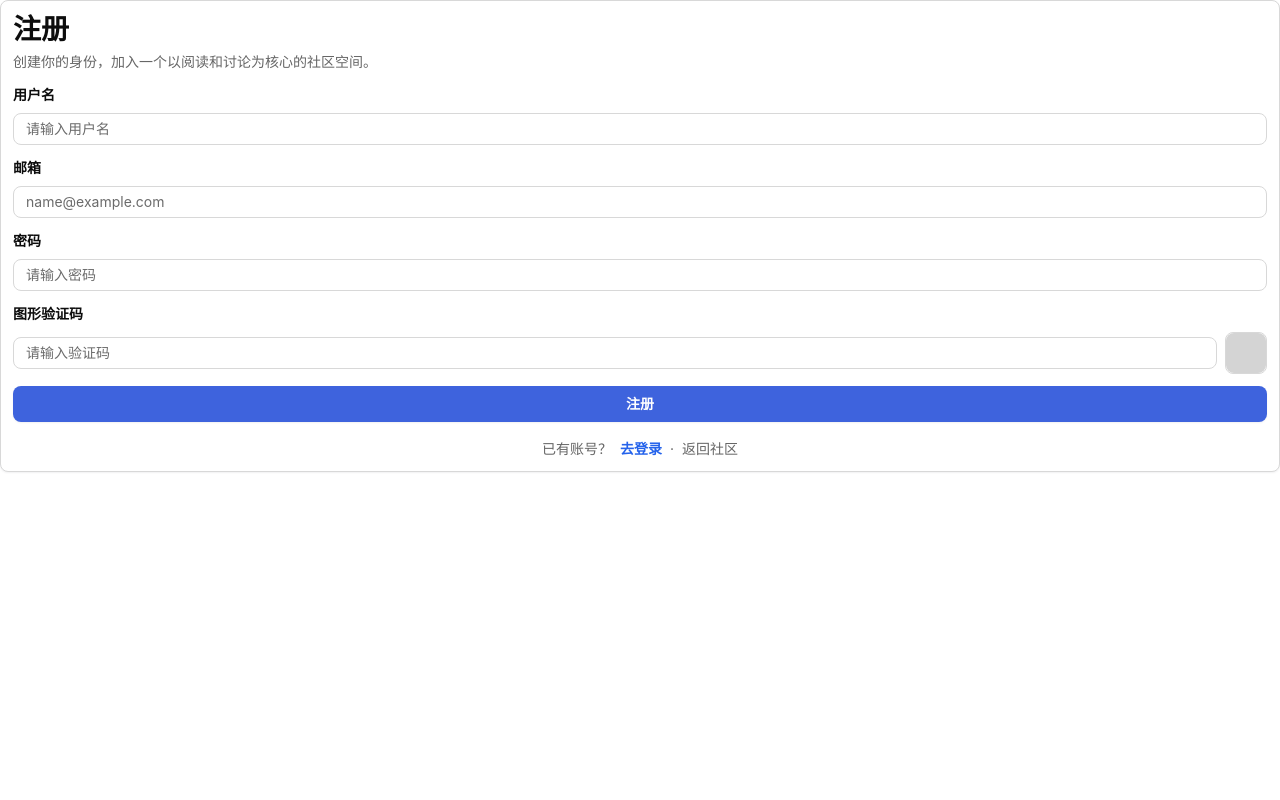
Scenario: RegisterView › keeps the email-code verification area separate from the resend captcha area after registration succeeds
This screenshot has width=1280, height=800.
Type "alice" into the field labelled "用户名" at (640, 129), box x1=13 y1=113 x2=1267 y2=145
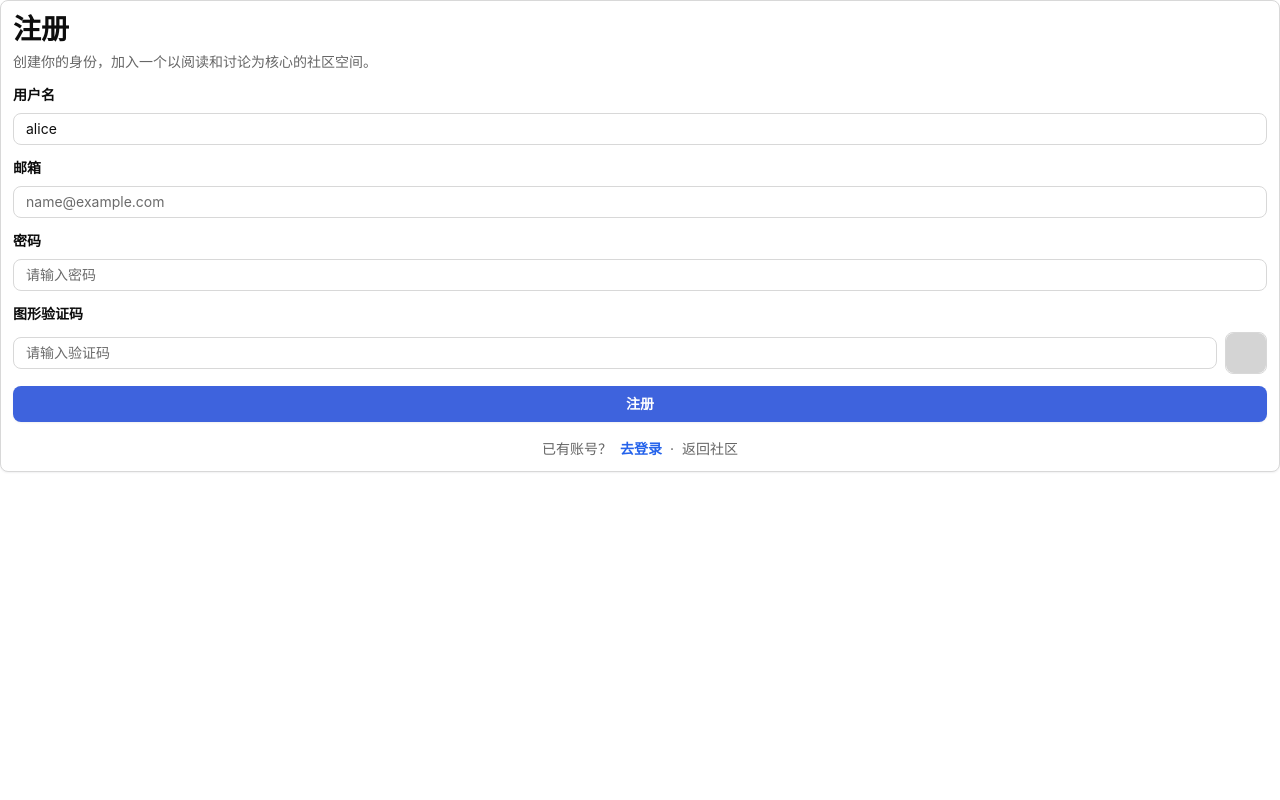
Type "alice@example.com" into the field labelled "邮箱" at (640, 202), box x1=13 y1=186 x2=1267 y2=218
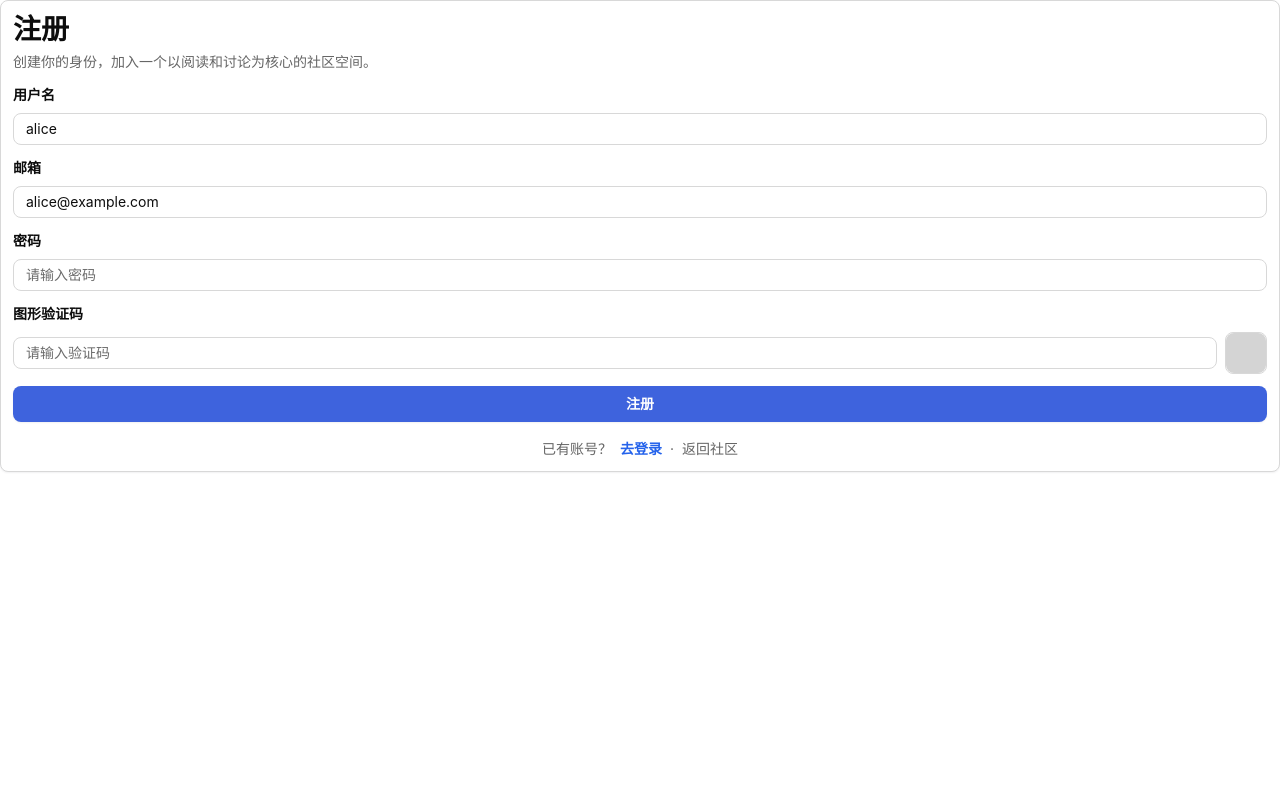
Type "secret" into the password field labelled "密码" at (640, 275), box x1=13 y1=259 x2=1267 y2=291
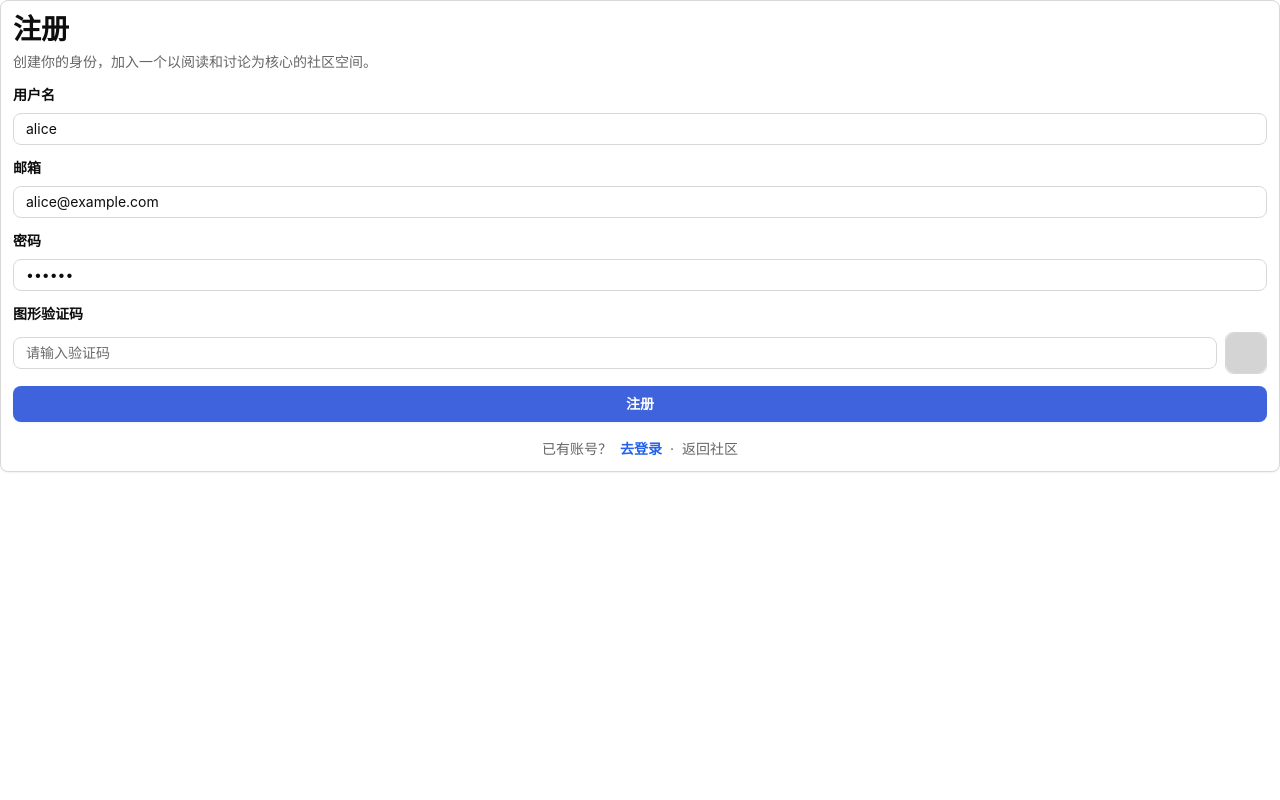
Type "abcd" into the field labelled "图形验证码" at (615, 353), box x1=13 y1=337 x2=1217 y2=369
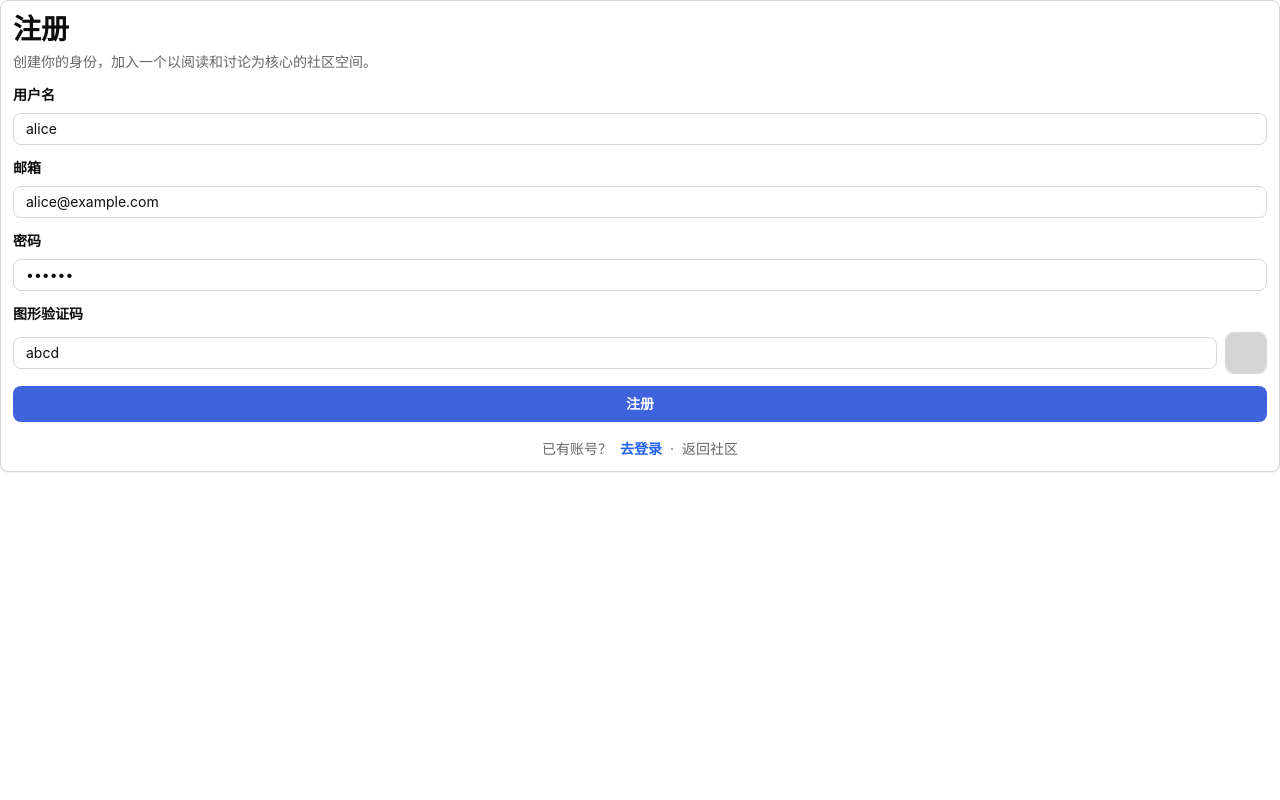
Click the button with class "auth-submit-btn" at (640, 404), box x1=13 y1=386 x2=1267 y2=422
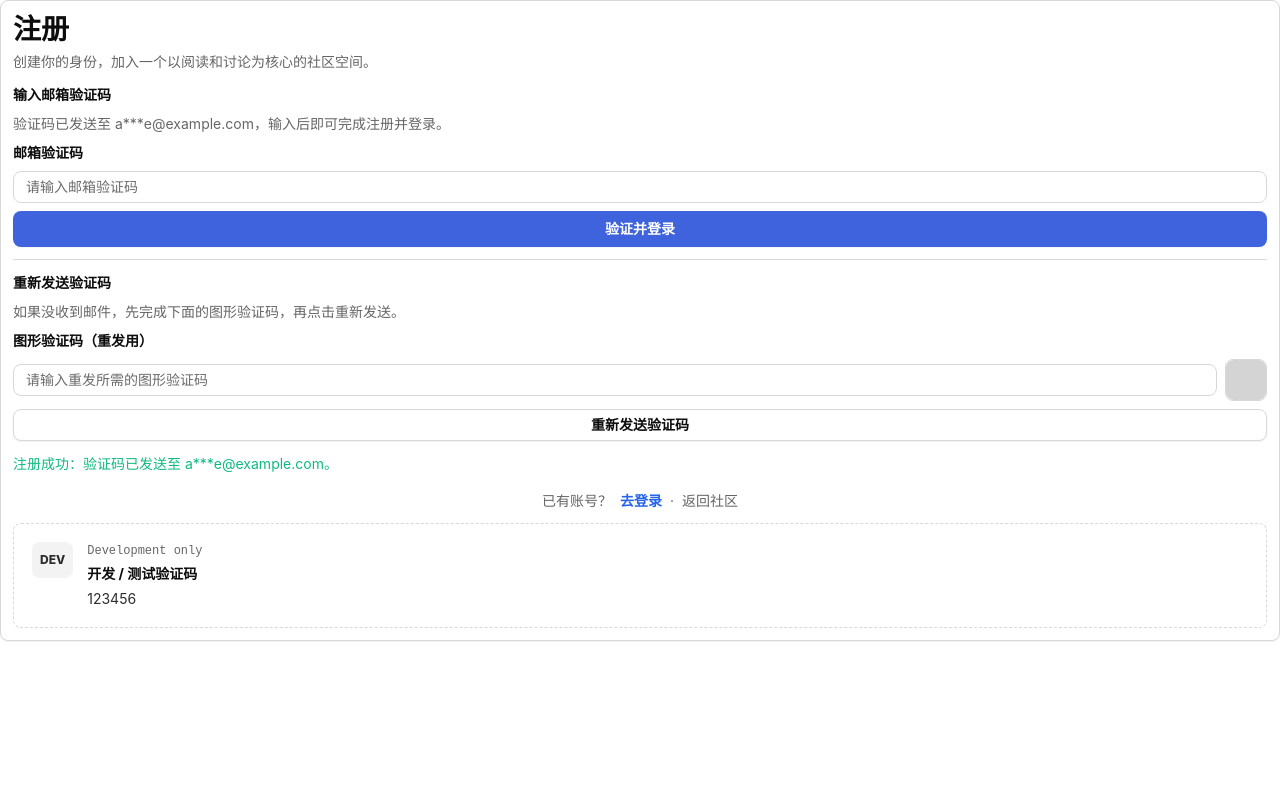
Now the element showing "输入邮箱验证码 验证码已发送至 a***e@example.com，输入后即可完成注册并登录。 邮箱验证码 验证并登录" is shown, box x1=13 y1=84 x2=1267 y2=247
Now the element showing "重新发送验证码 如果没收到邮件，先完成下面的图形验证码，再点击重新发送。 图形验证码（重发用） 重新发送验证码" is shown, box x1=13 y1=259 x2=1267 y2=441
Now the text "输入邮箱验证码" is shown, box x1=13 y1=86 x2=111 y2=103
